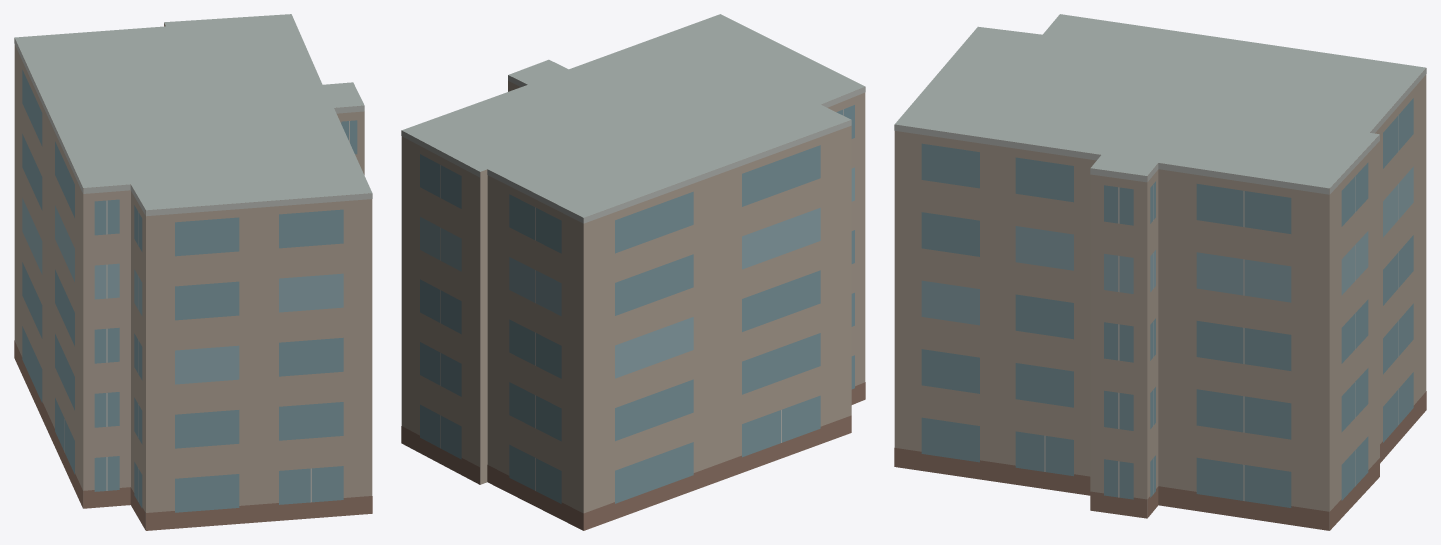
Rendered from survey-upis-32702280.glb.
The picture shows the model from 3 angles, left to right: view 1: azimuth 30°, elevation 25°; view 2: azimuth 150°, elevation 25°; view 3: azimuth 270°, elevation 25°; orthographic projection. The views are drawn at different scales.
Visible parts, largest first — view 1: survey-upis-32702280.tmp; view 2: survey-upis-32702280.tmp; view 3: survey-upis-32702280.tmp.
Boxes of the visible parts, x1,y1,x2,y2 form: survey-upis-32702280.tmp: [14, 14, 372, 530]; survey-upis-32702280.tmp: [401, 14, 865, 530]; survey-upis-32702280.tmp: [894, 14, 1426, 530].
Size of the model in its own units: 14.43 by 13.2 by 18.59.
